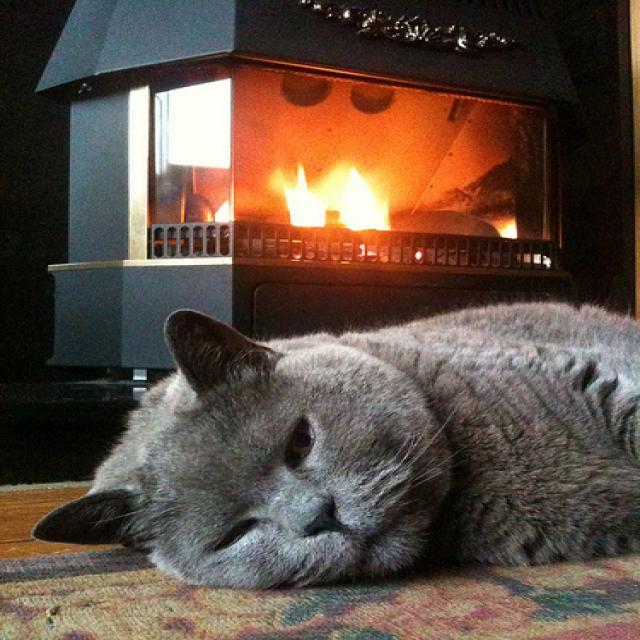British_Shorthair: (29, 307, 444, 586)
